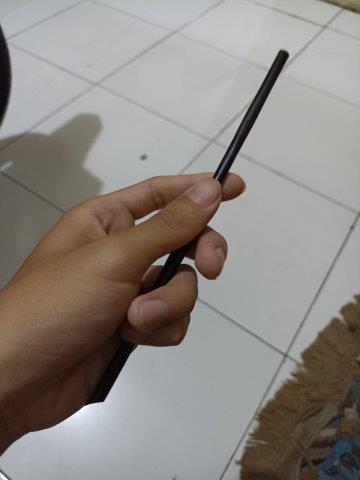sedotan: (87, 50, 287, 400)
